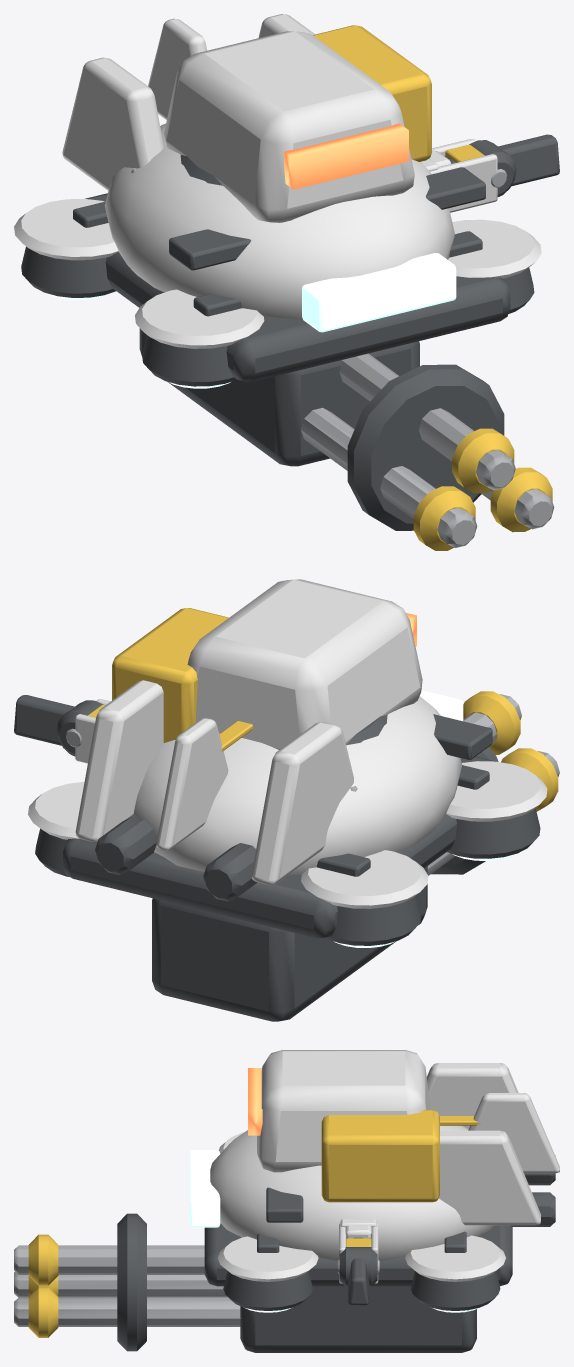
The model's file is burst.glb.
3 views of the same model, one above another, from view 1: azimuth 30°, elevation 25°; view 2: azimuth 150°, elevation 25°; view 3: azimuth 270°, elevation 25° (orthographic). The views are drawn at different scales.
Parts seen in each view (by area): view 1: Hull, Barrel, Turret, LegUpper, LegLower; view 2: Hull, Turret, Barrel, LegLower, LegUpper; view 3: Hull, Barrel, Turret, LegUpper, LegLower.
Part boxes in pixels (x1,y1,x2,y2): Hull: (14,14,541,388); Barrel: (139,328,554,550); Turret: (164,25,431,222); LegUpper: (421,139,516,212); LegLower: (429,134,559,186); Hull: (28,680,547,947); Turret: (112,579,422,749); Barrel: (152,691,559,1021); LegLower: (14,695,105,745); LegUpper: (56,699,110,763); Hull: (189,1063,559,1312); Barrel: (14,1213,476,1352); Turret: (248,1050,439,1202); LegUpper: (337,1219,379,1286); LegLower: (345,1225,371,1305).
Bounding box in the file's own units: 0.6836 × 0.496 × 0.8871.
